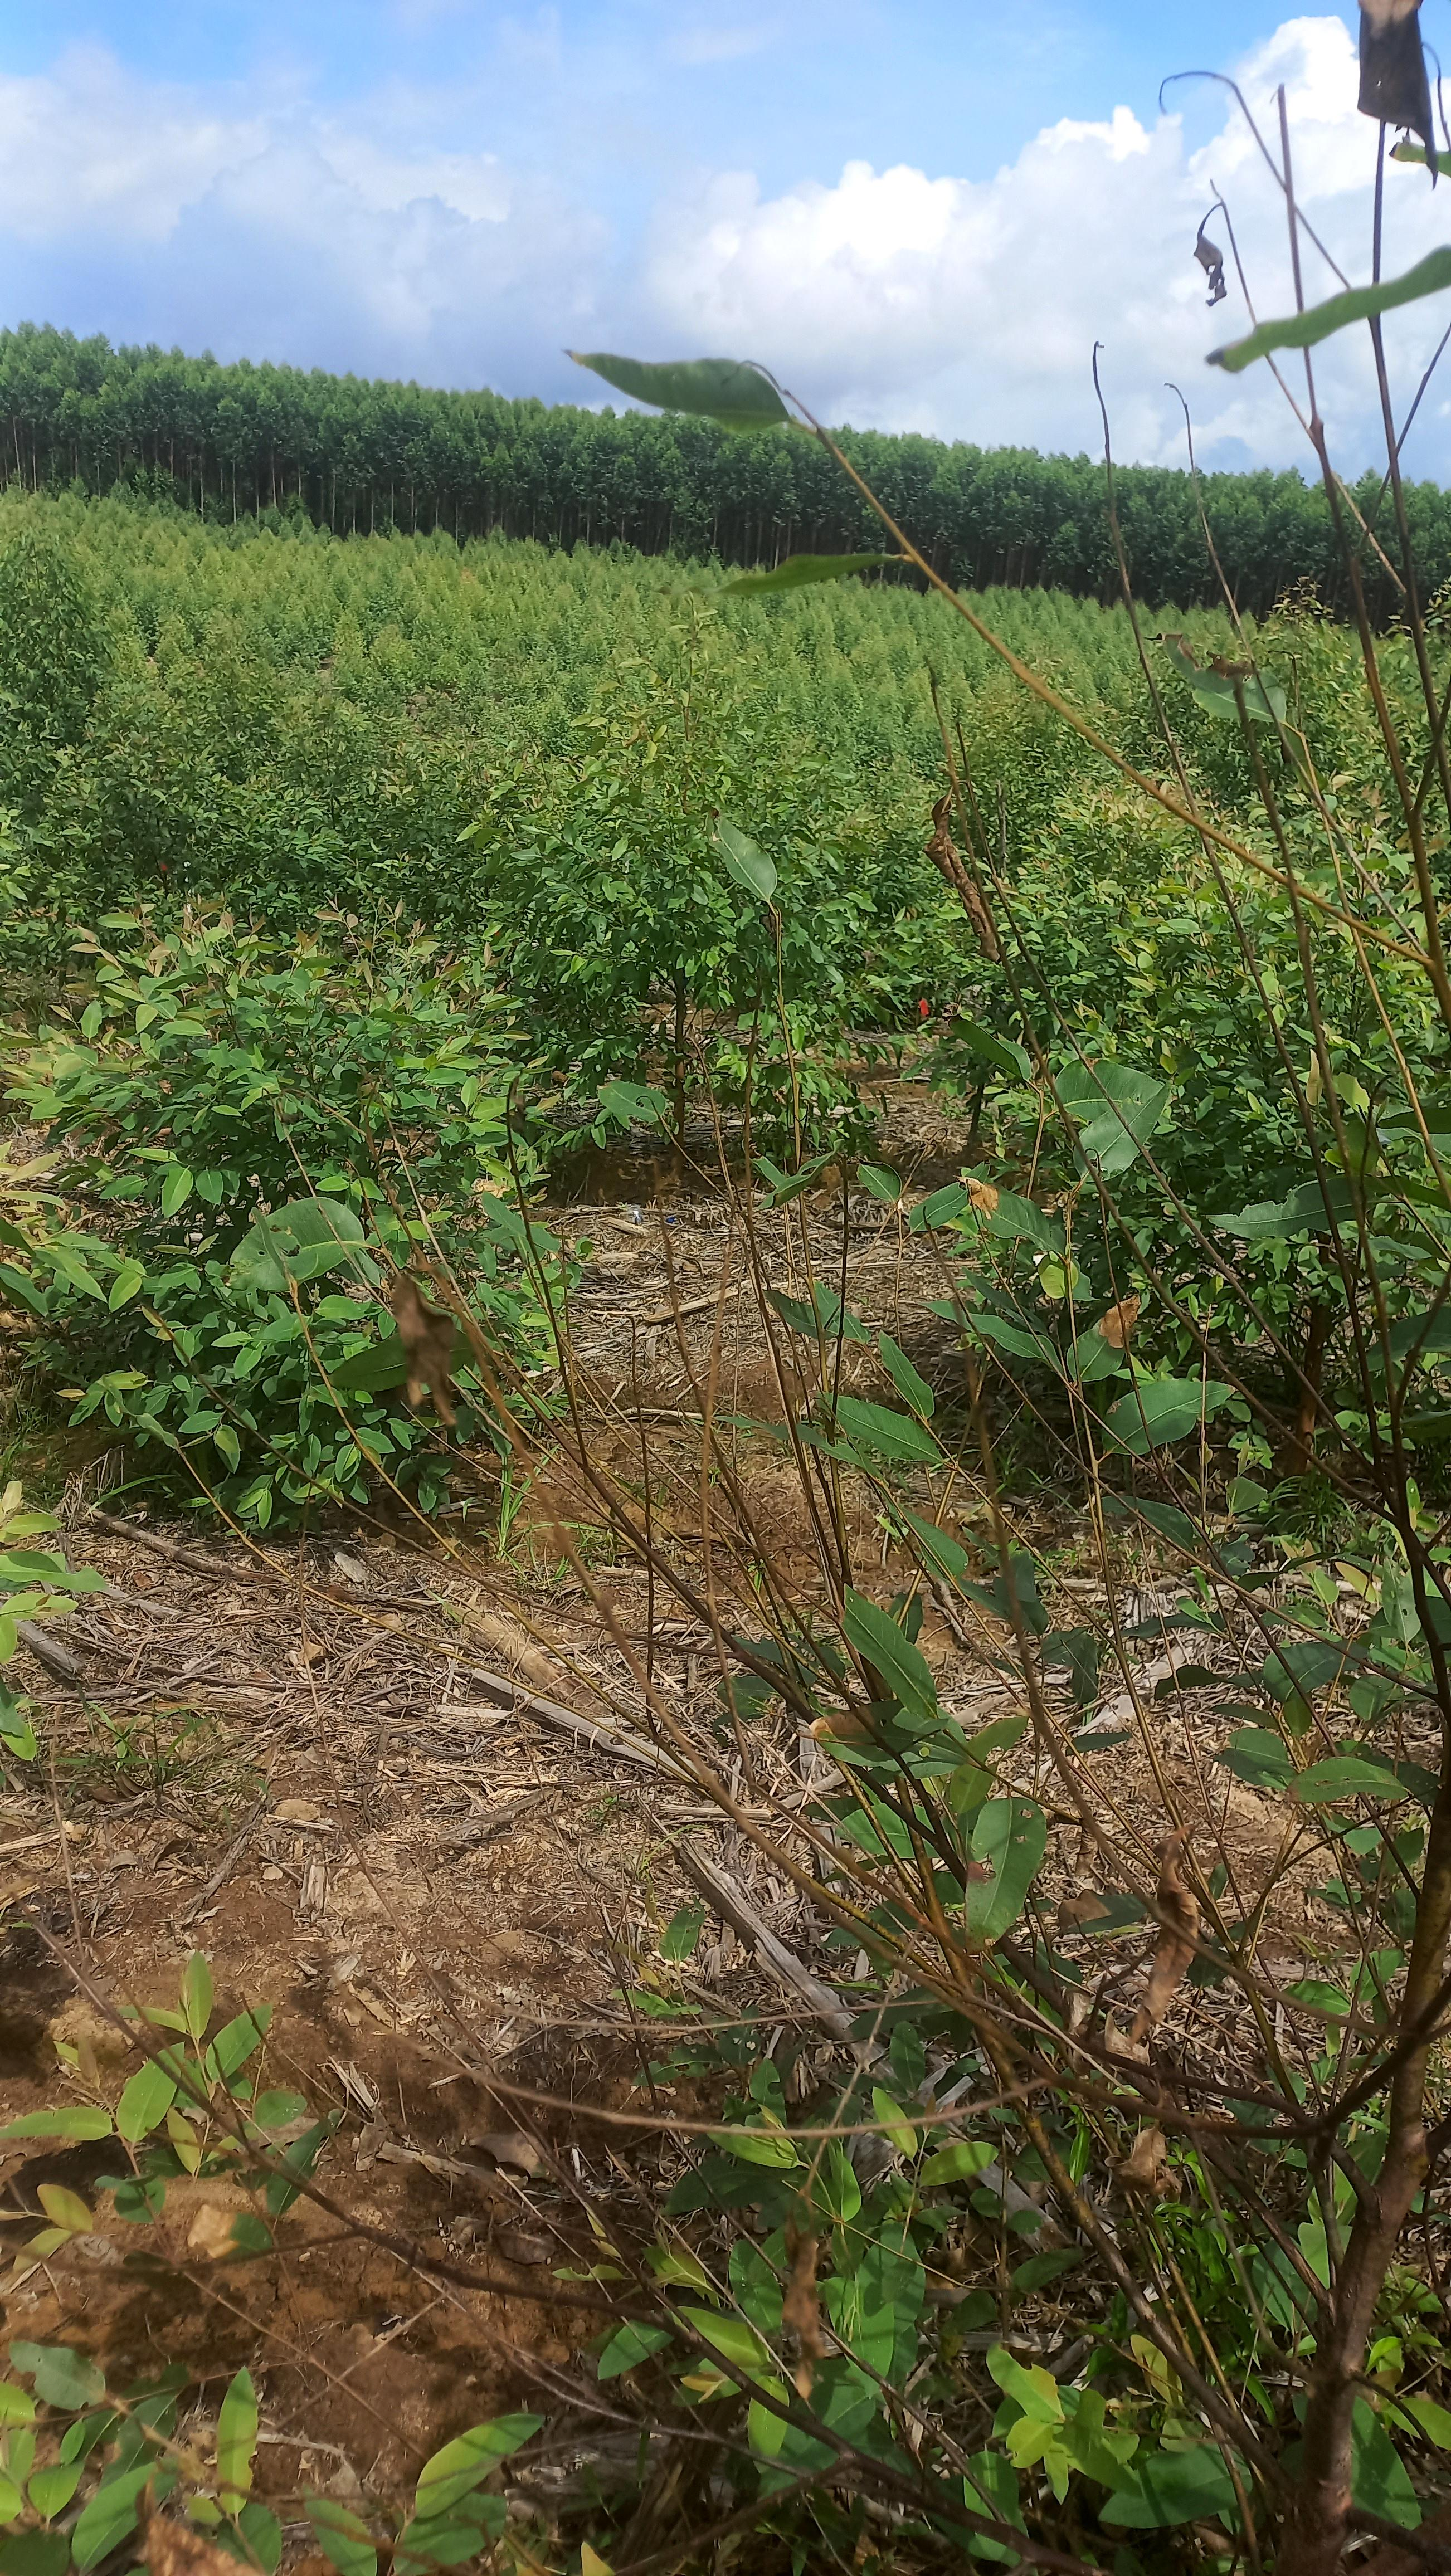Helopeltis-Withered Sprout: (1127, 1817, 1226, 2040), (134, 2454, 273, 2576), (1359, 0, 1449, 186), (918, 787, 1007, 970), (772, 2224, 841, 2406), (388, 1270, 469, 1421), (1104, 2118, 1187, 2204), (1189, 235, 1253, 331), (1101, 1286, 1141, 1357), (810, 1162, 849, 1219), (964, 1173, 1002, 1223)
